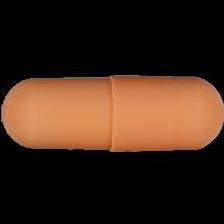10337-815: (0, 0, 224, 224)
